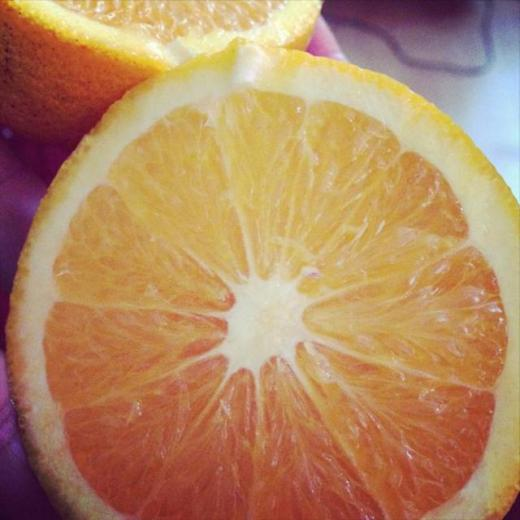Grape: (4, 36, 520, 520), (0, 0, 323, 143)
